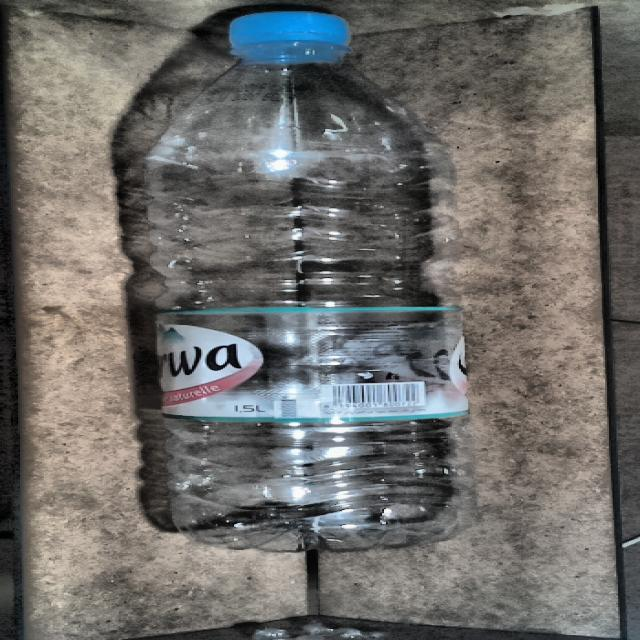plastic bottle: (144, 12, 472, 552)
